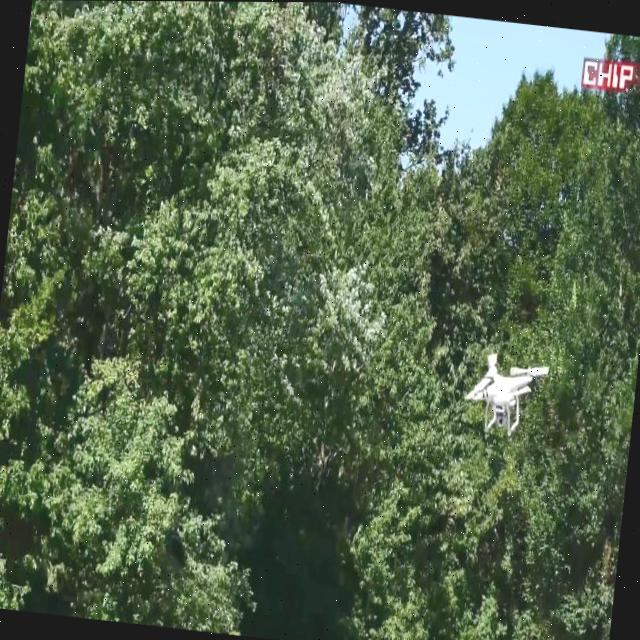drone: (460, 346, 549, 439)
